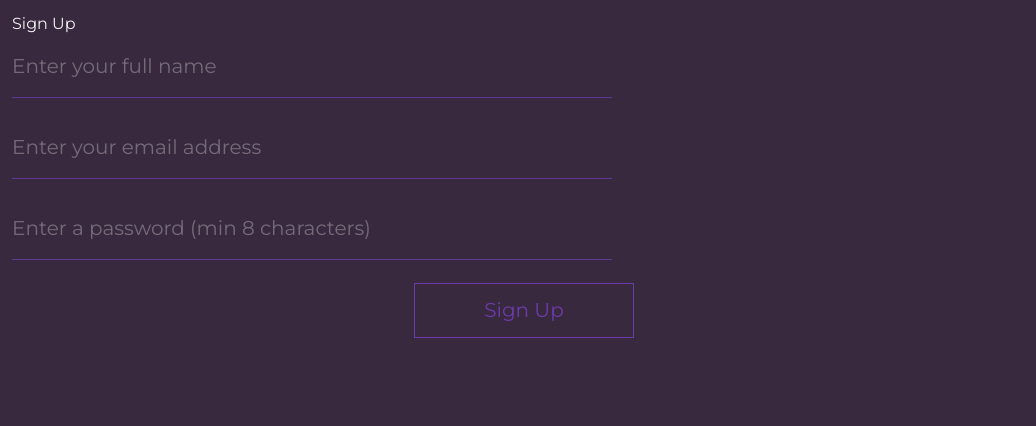
SignUpForm › handles network error
The image size is (1036, 426).
Step 1. Type "Test User" into the field named "Name:" → (312, 67), box left=12, top=36, right=612, bottom=98
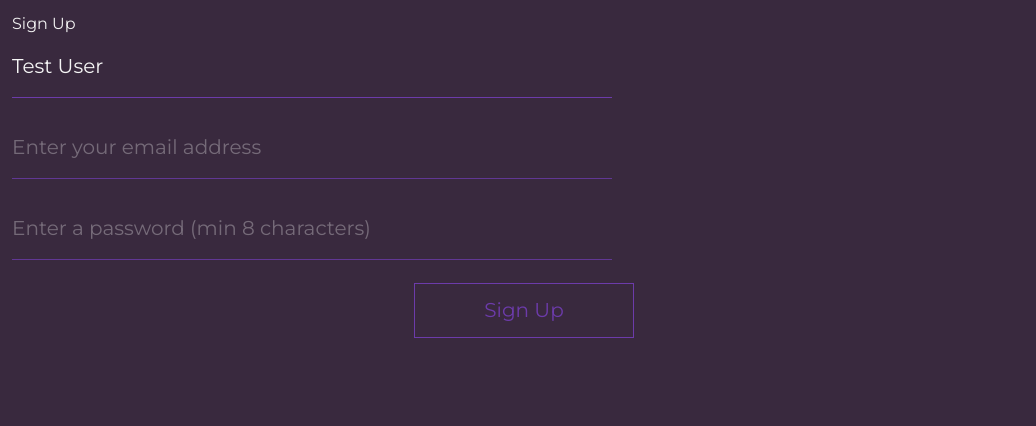
Step 2. Type "test@example.com" into the field named "Email:" → (312, 148), box left=12, top=117, right=612, bottom=179
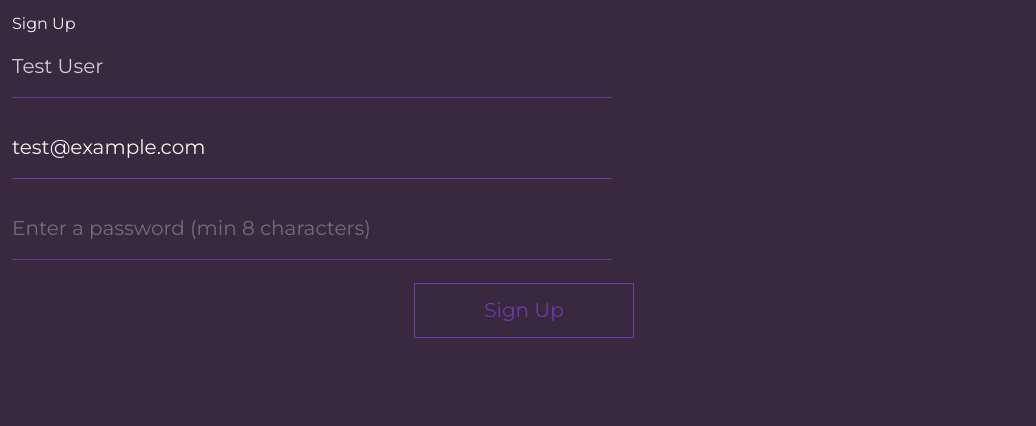
Step 3. Type "password123" into the password field named "Password:" → (312, 229), box left=12, top=198, right=612, bottom=260
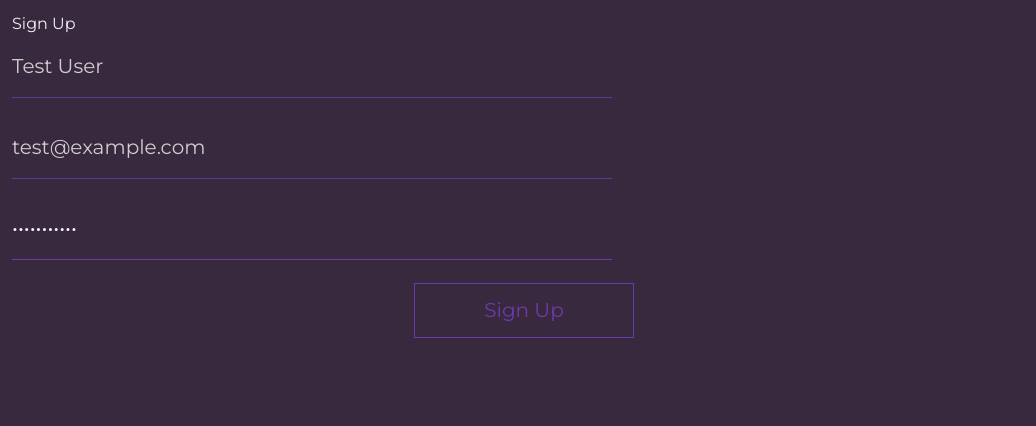
Step 4. Click the button "Sign Up" → (524, 310), box left=414, top=283, right=634, bottom=338
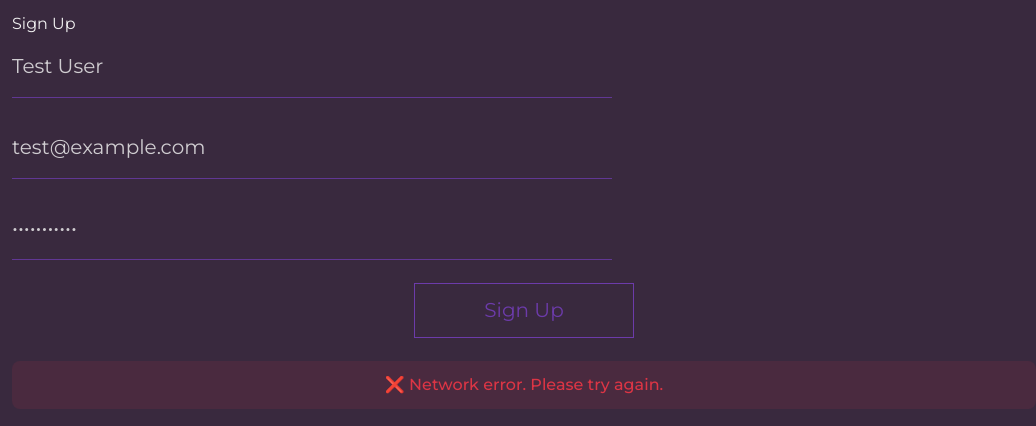
Expected: the text "Network error. Please try again." is shown, left=409, top=375, right=663, bottom=394
